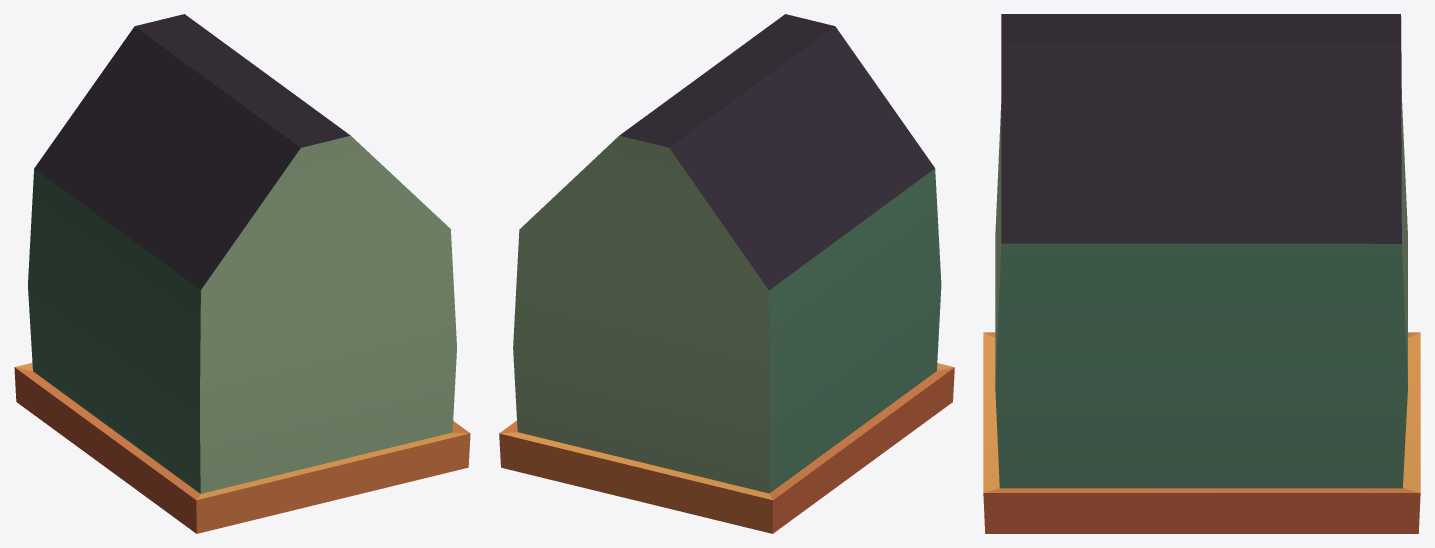
The model's file is House01_Green_Wood.glb.
The picture shows the model from 3 angles, left to right: view 1: azimuth 30°, elevation 25°; view 2: azimuth 150°, elevation 25°; view 3: azimuth 270°, elevation 25°; orthographic projection. The views are drawn at different scales.
Parts seen in each view (by area): view 1: House01_Green_Wood; view 2: House01_Green_Wood; view 3: House01_Green_Wood.
Part boxes in pixels (bbox=[...]): House01_Green_Wood: bbox=[14, 14, 470, 533]; House01_Green_Wood: bbox=[499, 14, 954, 533]; House01_Green_Wood: bbox=[983, 14, 1420, 533].
Size of the model in its own units: 2.04 by 2.51 by 2.34.
Materials: 1 (1 with a texture image).
